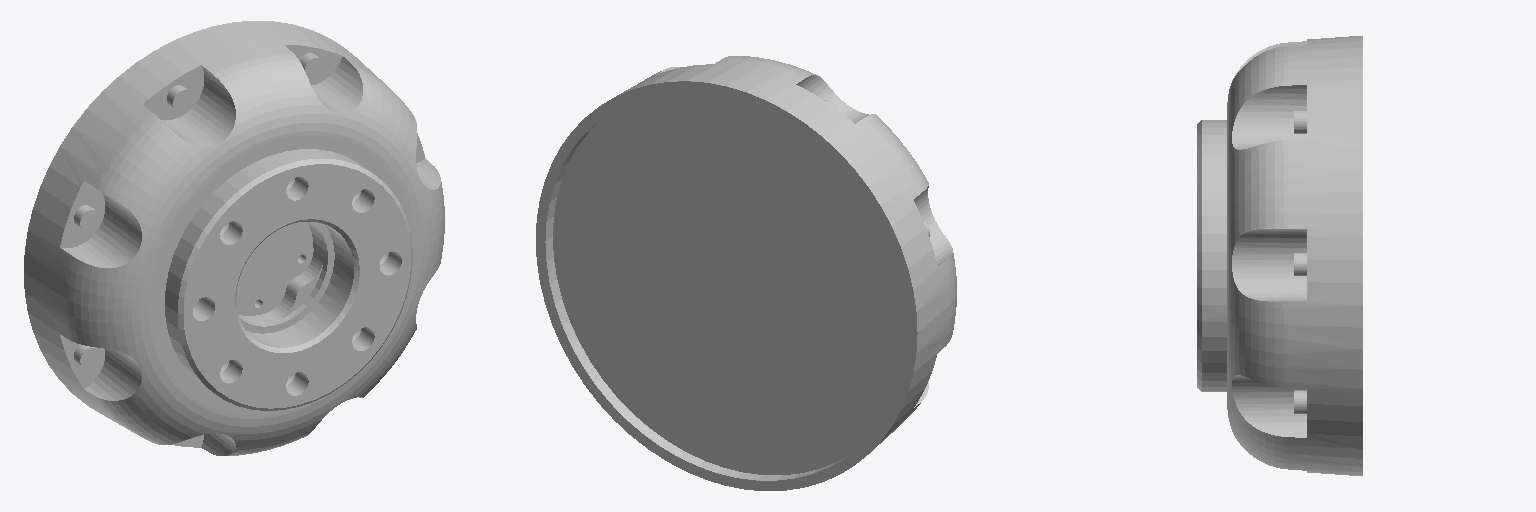
The picture shows the model from 3 angles: view 1: azimuth 30°, elevation 25°; view 2: azimuth 150°, elevation 25°; view 3: azimuth 270°, elevation 25°; orthographic projection.
Parts seen in each view (by area): view 1: /ambf/env/Link7; view 2: /ambf/env/Link7; view 3: /ambf/env/Link7.
Part boxes in pixels (x1,y1,x2,y2): /ambf/env/Link7: (24,21,444,455); /ambf/env/Link7: (536,56,956,490); /ambf/env/Link7: (1197,36,1362,475).
Bounding box in the file's own units: 0.1042 × 0.1042 × 0.0391.